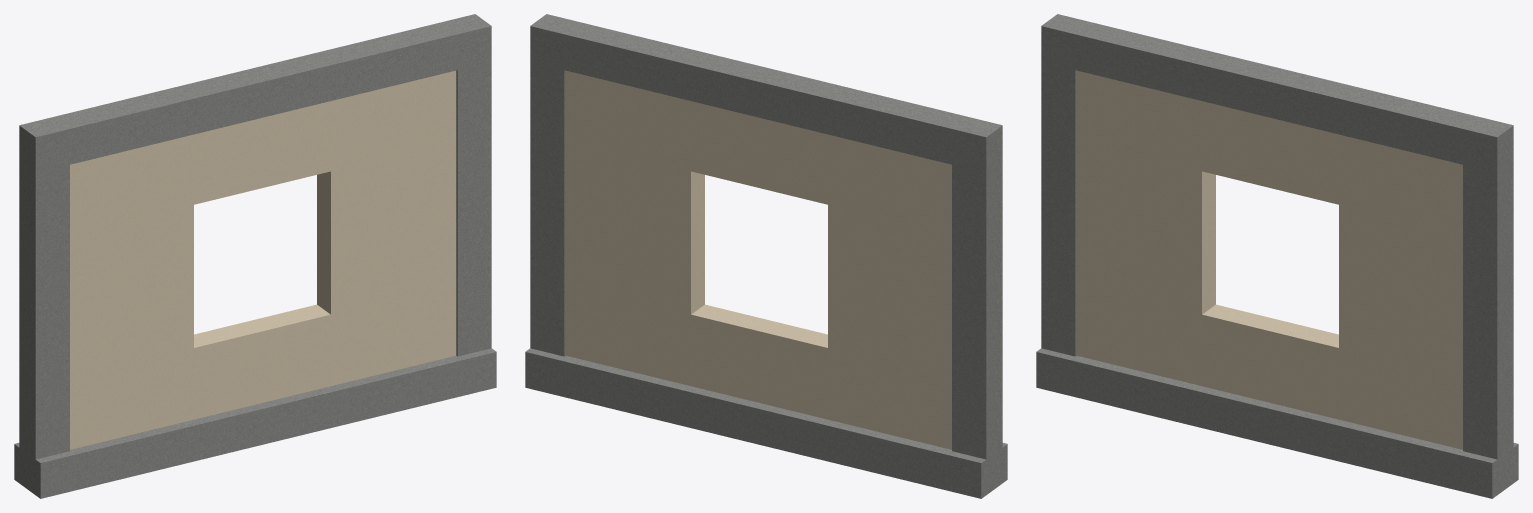
The model's file is estate_wall_window_4p.glb.
The picture shows the model from 3 angles, left to right: view 1: azimuth 30°, elevation 25°; view 2: azimuth 150°, elevation 25°; view 3: azimuth 330°, elevation 25°; orthographic projection.
Parts seen in each view (by area): view 1: Cube.004, Cube.003, Cube, Cube.001, Cube.002; view 2: Cube.004, Cube.003, Cube, Cube.001, Cube.002; view 3: Cube.004, Cube.003, Cube, Cube.002, Cube.001.
Boxes of the visible parts, x1,y1,x2,y2 form: Cube.004: (70,70,456,449); Cube.003: (19,14,491,172); Cube: (14,348,496,498); Cube.001: (19,161,69,459); Cube.002: (456,62,491,356); Cube.004: (565,70,951,449); Cube.003: (530,14,1002,172); Cube: (525,348,1007,498); Cube.001: (952,161,1002,459); Cube.002: (530,62,565,356); Cube.004: (1076,70,1462,449); Cube.003: (1041,14,1513,172); Cube: (1036,348,1518,498); Cube.002: (1463,161,1513,459); Cube.001: (1041,62,1076,356).
Size of the model in its own units: 4 by 3 by 0.4.
2 materials, 2 textured.
